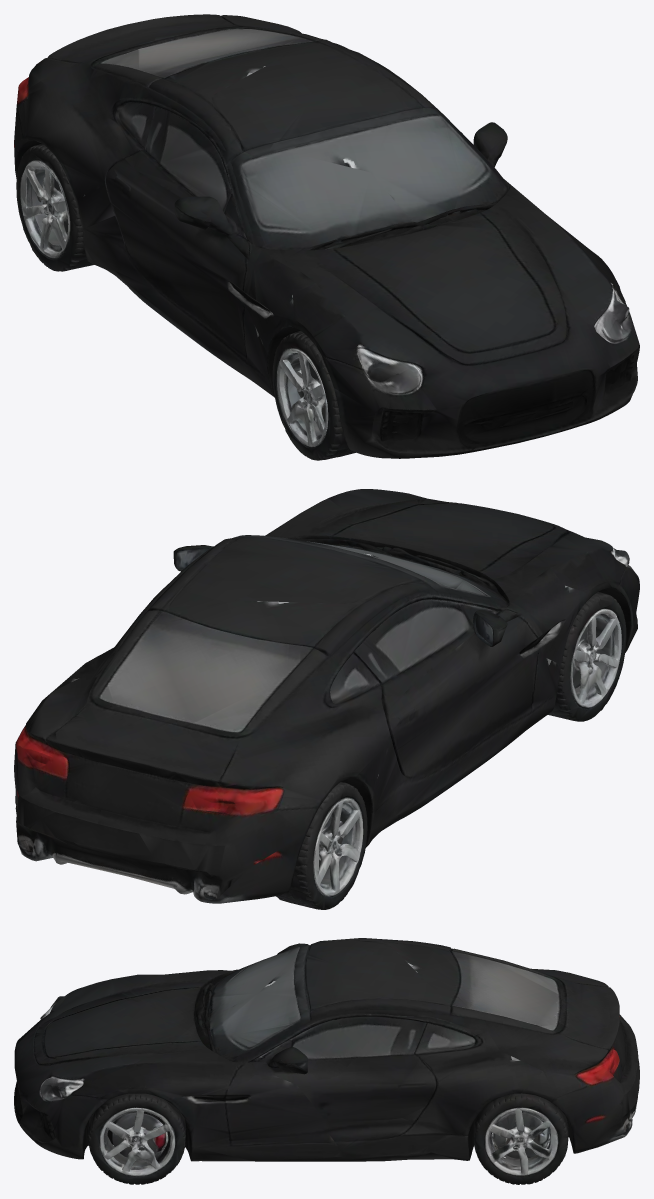
File: car-m.glb
The picture shows the model from 3 angles, top to bottom: view 1: azimuth 30°, elevation 25°; view 2: azimuth 150°, elevation 25°; view 3: azimuth 270°, elevation 25°; orthographic projection. The views are drawn at different scales.
Visible parts, largest first — view 1: model; view 2: model; view 3: model.
Part boxes in pixels (bbox=[...]): model: bbox=[14, 14, 639, 460]; model: bbox=[14, 489, 639, 909]; model: bbox=[14, 938, 639, 1184].
Size of the model in its own units: 0.8473 by 0.5499 by 1.9.
1 material, 1 textured.
